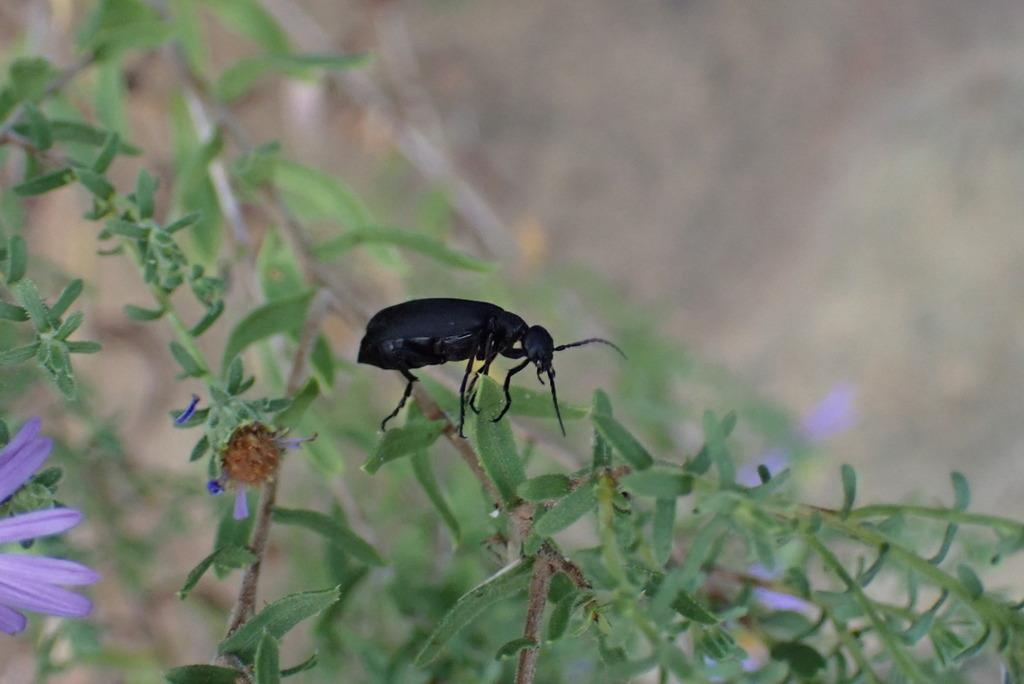blister_beetle: (323, 262, 640, 463)
